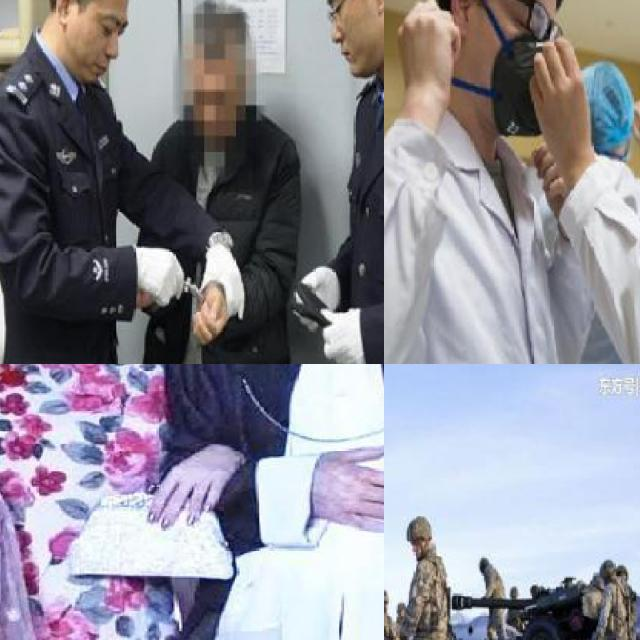face_mask: (474, 0, 560, 149)
face_nomask: (51, 0, 130, 81), (325, 0, 367, 74)
glasses: (494, 0, 577, 45)
hand_glove: (201, 249, 243, 322), (135, 244, 183, 306), (294, 265, 338, 332), (321, 306, 362, 364)
hand_noglove: (149, 444, 244, 533), (527, 34, 590, 153), (307, 443, 384, 536), (396, 0, 460, 91), (532, 142, 566, 205), (190, 291, 228, 346), (629, 94, 640, 154), (393, 634, 401, 640)
head_helmet: (408, 514, 437, 544), (384, 591, 389, 610)
person: (384, 0, 614, 364), (0, 0, 156, 364), (0, 364, 192, 640), (193, 364, 384, 640), (152, 5, 295, 364), (304, 0, 384, 364), (384, 510, 475, 640), (572, 564, 639, 640), (470, 547, 519, 640)
